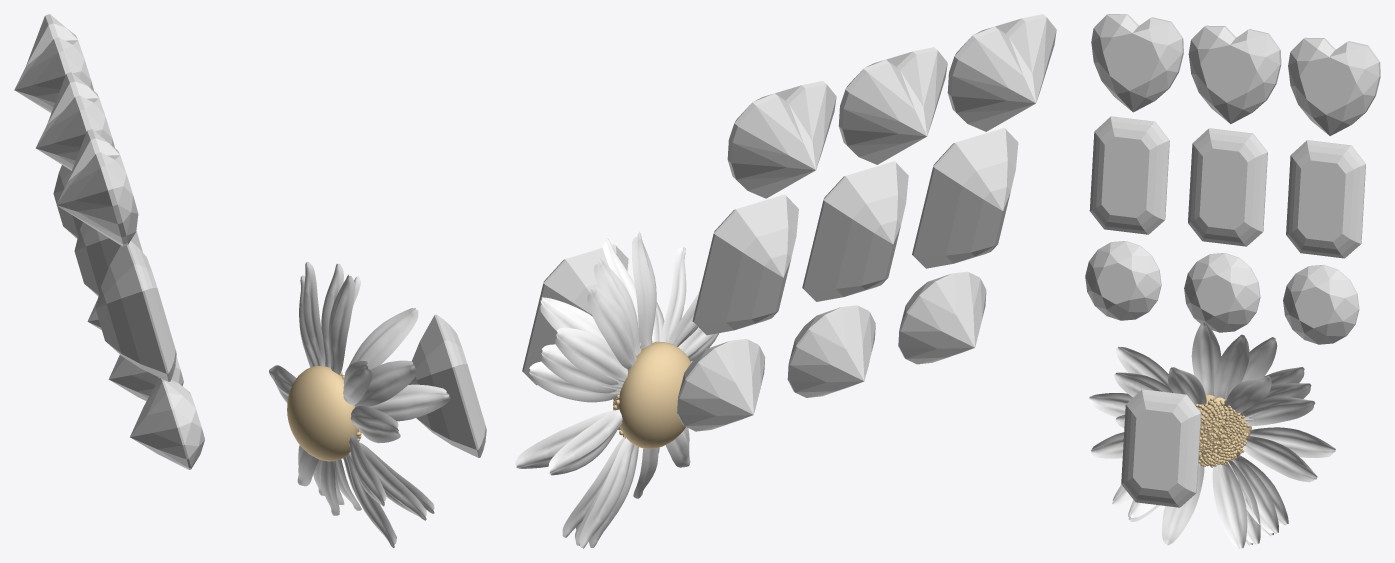
The model's file is daisy.glb.
3 views of the same model, side by side, from view 1: azimuth 30°, elevation 25°; view 2: azimuth 150°, elevation 25°; view 3: azimuth 270°, elevation 25° (orthographic). The views are drawn at different scales.
Visible parts, largest first — view 1: Diamonds.001, daisy.002, diamond1; view 2: Diamonds.001, daisy.002, diamond1; view 3: Diamonds.001, daisy.002, diamond1.
Part boxes in pixels (x1=…): Diamonds.001: x1=14, y1=14, x2=204, y2=469; daisy.002: x1=269, y1=261, x2=450, y2=548; diamond1: x1=408, y1=314, x2=486, y2=457; Diamonds.001: x1=677, y1=14, x2=1056, y2=431; daisy.002: x1=515, y1=232, x2=719, y2=548; diamond1: x1=522, y1=244, x2=628, y2=385; Diamonds.001: x1=1085, y1=14, x2=1380, y2=344; daisy.002: x1=1088, y1=322, x2=1335, y2=548; diamond1: x1=1121, y1=389, x2=1201, y2=507.
Size of the model in its own units: 18.09 by 19.99 by 12.91.
